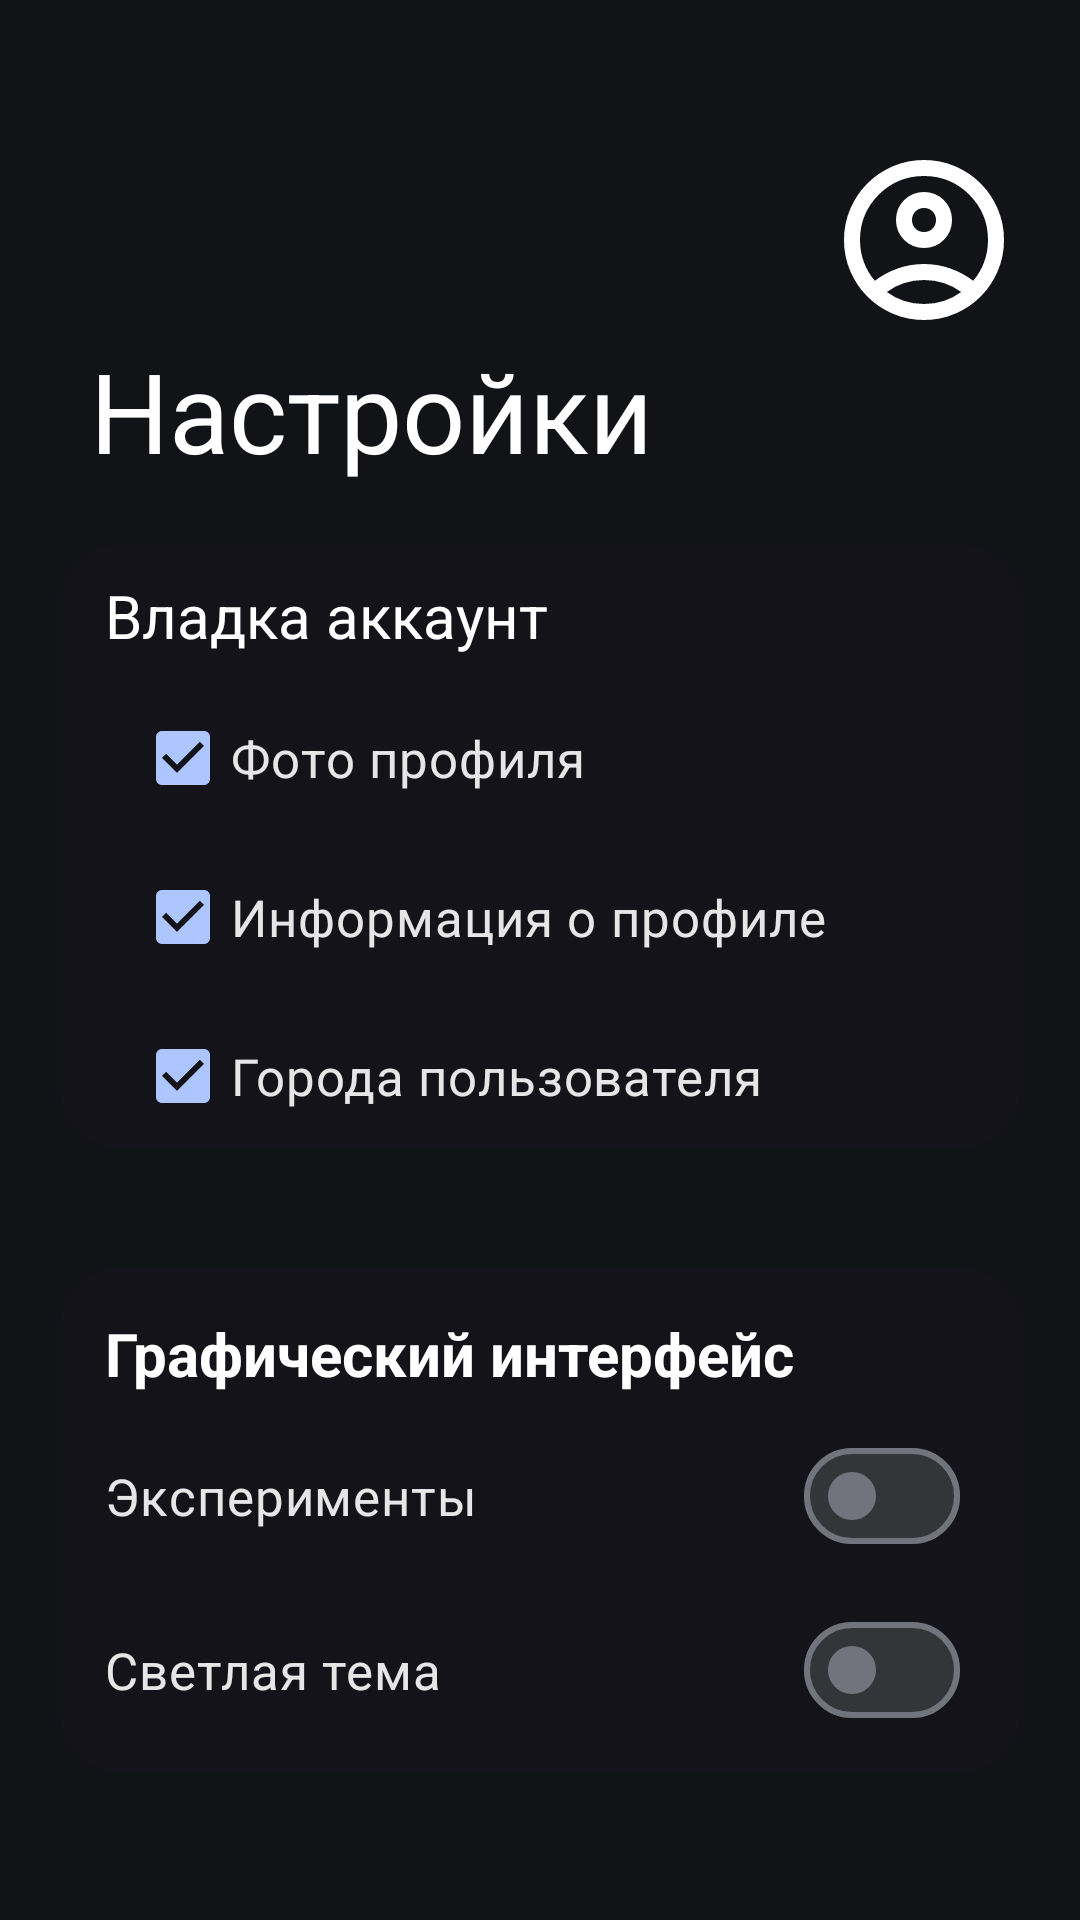

Icon click points for this 1080px x 1920px phone screenshot, format (x=x, y=y):
account circle: (x=924, y=240)
